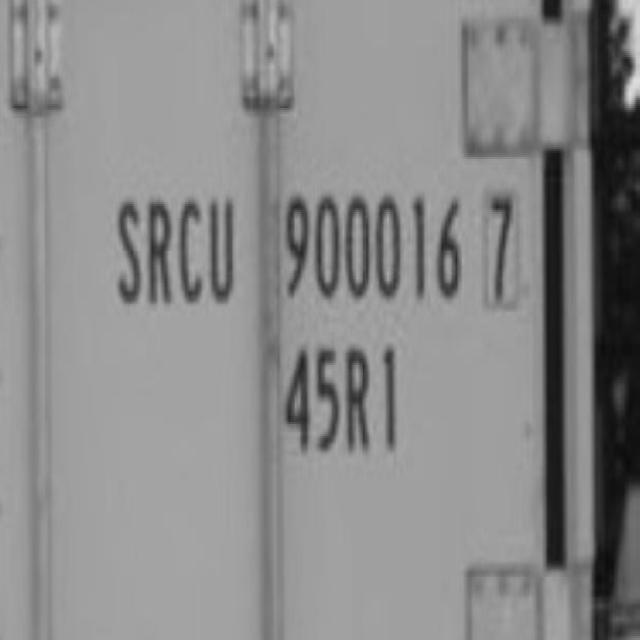dv: (475, 182, 521, 310)
owner: (112, 174, 240, 316)
serial: (276, 162, 461, 316)
size: (279, 329, 403, 464)
